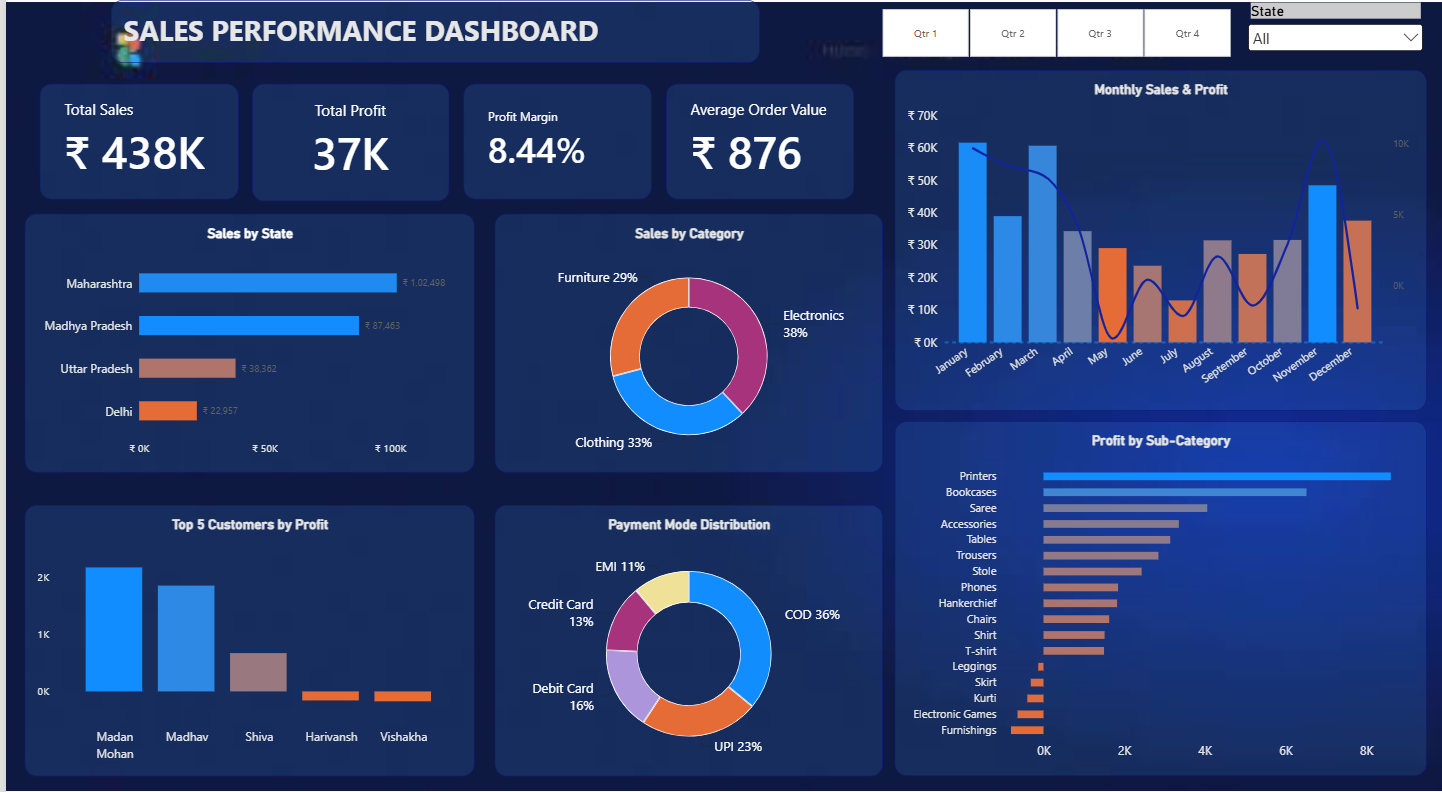

The dashboard page shown, as its layout file describes it:
{"tool":"powerbi","page":{"name":"Page 1","canvas":[1920,1080],"ordinal":0},"visuals":[{"type":"lineClusteredColumnComboChart","title":"Monthly Sales & Profit","fields":{"Category":["Orders.Order Date.Variation.Date Hierarchy.Month"],"Y":["Details.Total Sales"],"Y2":["Details.Total Profit"]},"box":[1187.7,100.9,710.1,454.9],"z":0},{"type":"barChart","title":"Profit by Sub-Category","fields":{"Category":["Details.Sub-Category"],"Y":["Details.Total Profit"]},"box":[1187.7,570.2,710.1,473.4],"z":1000},{"type":"donutChart","title":"Sales by Category","fields":{"Category":["Details.Category"],"Y":["Details.Total Sales"]},"box":[652.5,292.3,518.7,345.8],"z":2000},{"type":"donutChart","title":"Orders by Payment Mode","fields":{"Category":["Details.PaymentMode"],"Y":["Details.Total Orders"]},"box":[652.5,681.3,518.7,362.3],"z":3000},{"type":"cardVisual","fields":{"Data":["Details.Total Sales"]},"box":[45.3,119.4,265.5,154.4],"z":4000},{"type":"cardVisual","fields":{"Data":["Details.Total Profit"]},"box":[329.3,119.4,263.5,156.4],"z":5000},{"type":"cardVisual","fields":{"Data":["Details.Profit Margin"]},"box":[611.3,119.4,251.1,154.4],"z":6000},{"type":"cardVisual","fields":{"Data":["Details.Average Order Value"]},"box":[881,119.4,251.1,154.4],"z":7000},{"type":"barChart","title":"Sales by State","fields":{"Category":["Orders.State"],"Y":["Details.Total Sales"]},"box":[24.7,292.3,601,345.8],"z":8000},{"type":"columnChart","title":"Top 5 Customers by Profit","fields":{"Category":["Orders.CustomerName"],"Y":["Details.Total Profit"]},"box":[24.7,681.3,601,362.3],"z":9000},{"type":"textbox","box":[140,6.2,866.6,84.4],"z":10000},{"type":"slicer","fields":{"Values":["Orders.Order Date.Variation.Date Hierarchy.Quarter"]},"box":[1150.6,16.5,504.3,67.9],"z":11000},{"type":"slicer","fields":{"Values":["Orders.State"]},"box":[1654.9,10.3,242.9,74.1],"z":12000}]}

Visuals, with their boxes in screenshot pixels (x1, y1, x2, y2), scaled from the page's 1920x1080 canvas onto the 1442x792 screenshot:
"Monthly Sales & Profit" lineClusteredColumnComboChart: 892,74,1425,408
"Profit by Sub-Category" barChart: 892,418,1425,765
"Sales by Category" donutChart: 490,214,880,468
"Orders by Payment Mode" donutChart: 490,500,880,765
cardVisual - Details.Total Sales: 34,88,233,201
cardVisual - Details.Total Profit: 247,88,445,202
cardVisual - Details.Profit Margin: 459,88,648,201
cardVisual - Details.Average Order Value: 662,88,850,201
"Sales by State" barChart: 19,214,470,468
"Top 5 Customers by Profit" columnChart: 19,500,470,765
textbox: 105,5,756,66
slicer - Orders.Order Date.Variation.Date Hierarchy.Quarter: 864,12,1243,62
slicer - Orders.State: 1243,8,1425,62
